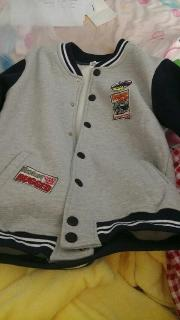long sleeve outwear: (0, 38, 180, 270)
